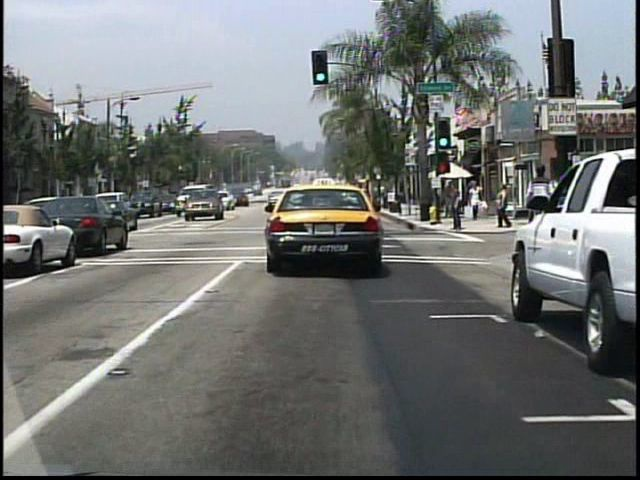person: (523, 159, 556, 257), (495, 181, 513, 229), (450, 182, 466, 234), (470, 180, 485, 220), (443, 181, 454, 218)
